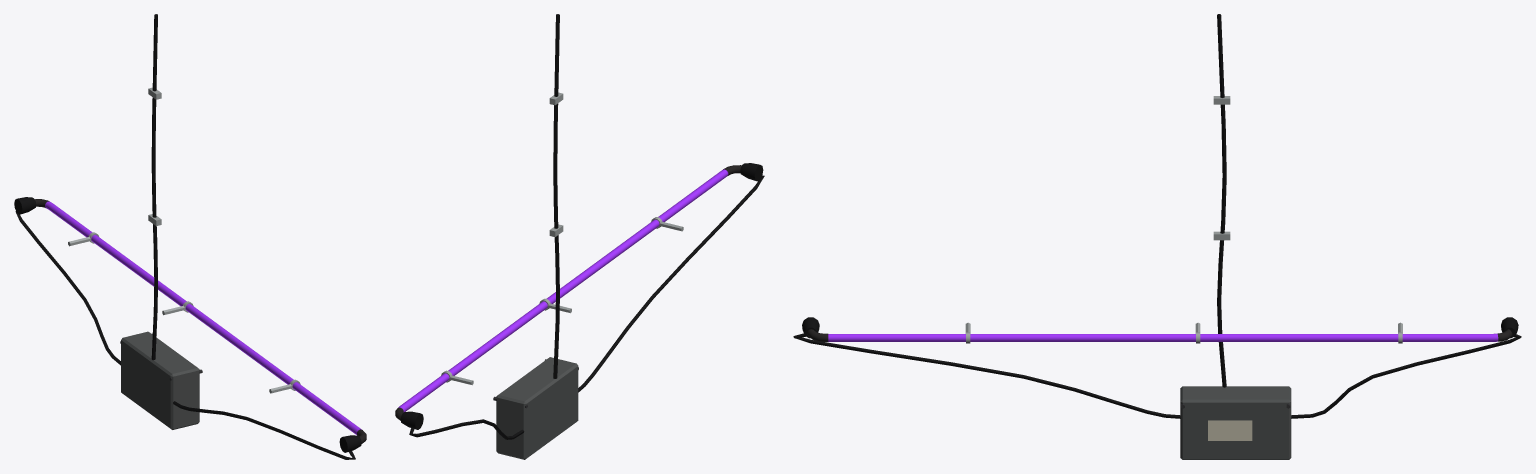
Rendered from neon_tube@3.glb.
The picture shows the model from 3 angles, left to right: view 1: azimuth 30°, elevation 25°; view 2: azimuth 150°, elevation 25°; view 3: azimuth 270°, elevation 25°; orthographic projection. The views are drawn at different scales.
Parts seen in each view (by area): view 1: teil4, teil0, teil7, teil2, teil3; view 2: teil4, teil7, teil0, teil2, teil3; view 3: teil4, teil0, teil7, teil5.
Boxes of the visible parts, x1,y1,x2,y2 form: teil4: (121,331,199,429); teil0: (45,201,361,434); teil7: (15,14,355,459); teil2: (14,197,361,452); teil3: (68,232,300,393); teil4: (496,357,578,459); teil7: (409,14,764,439); teil0: (398,169,728,412); teil2: (400,163,763,429); teil3: (441,217,683,385); teil4: (1180,386,1291,459); teil0: (828,333,1498,341); teil7: (793,14,1521,418); teil5: (1208,420,1252,440).
Size of the model in its own units: 0.07 by 0.8601 by 1.31.
